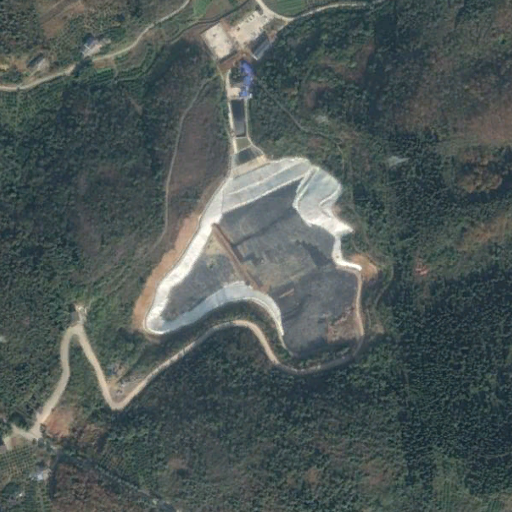lf: (141, 139, 366, 374)
